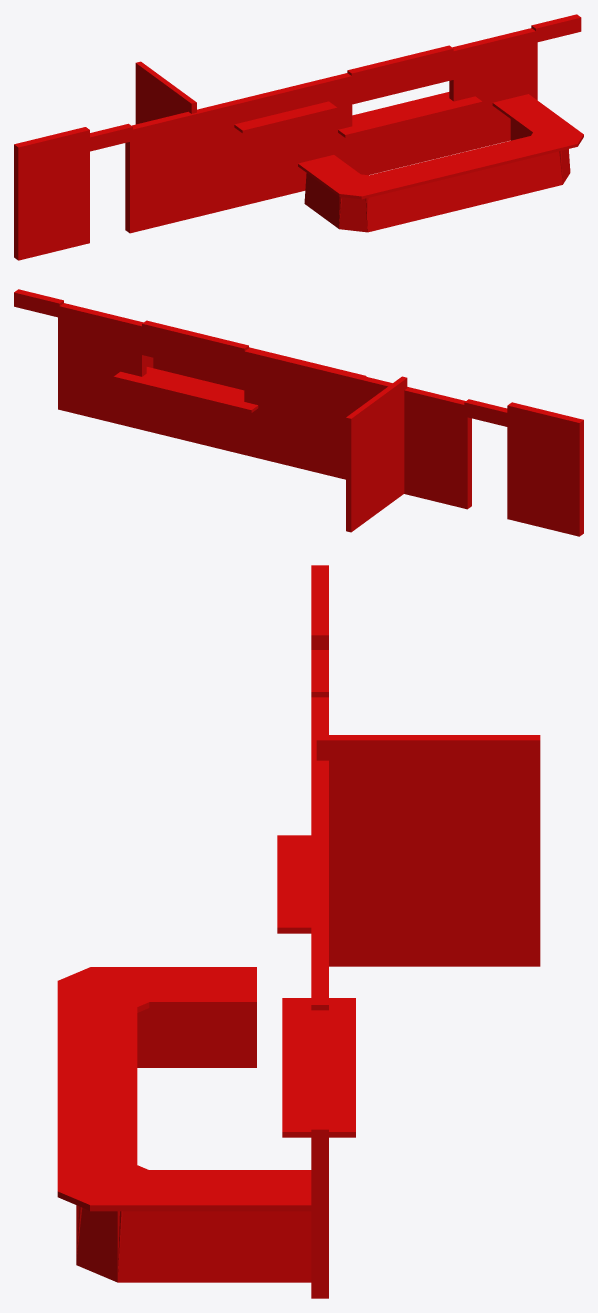
File: SM_Bld_Diner_Interior_01_Collision.fbx
3 views of the same model, one above another, from view 1: azimuth 30°, elevation 25°; view 2: azimuth 150°, elevation 25°; view 3: azimuth 270°, elevation 25° (orthographic). The views are drawn at different scales.
Visible parts, largest first — view 1: SM_Bld_Diner_Interior_01_Collision; view 2: SM_Bld_Diner_Interior_01_Collision; view 3: SM_Bld_Diner_Interior_01_Collision.
Boxes of the visible parts, <box> form: SM_Bld_Diner_Interior_01_Collision: <box>14,14,583,260</box>; SM_Bld_Diner_Interior_01_Collision: <box>14,289,583,536</box>; SM_Bld_Diner_Interior_01_Collision: <box>57,565,540,1298</box>.
Size of the model in its own units: 1531 by 295 by 568.
